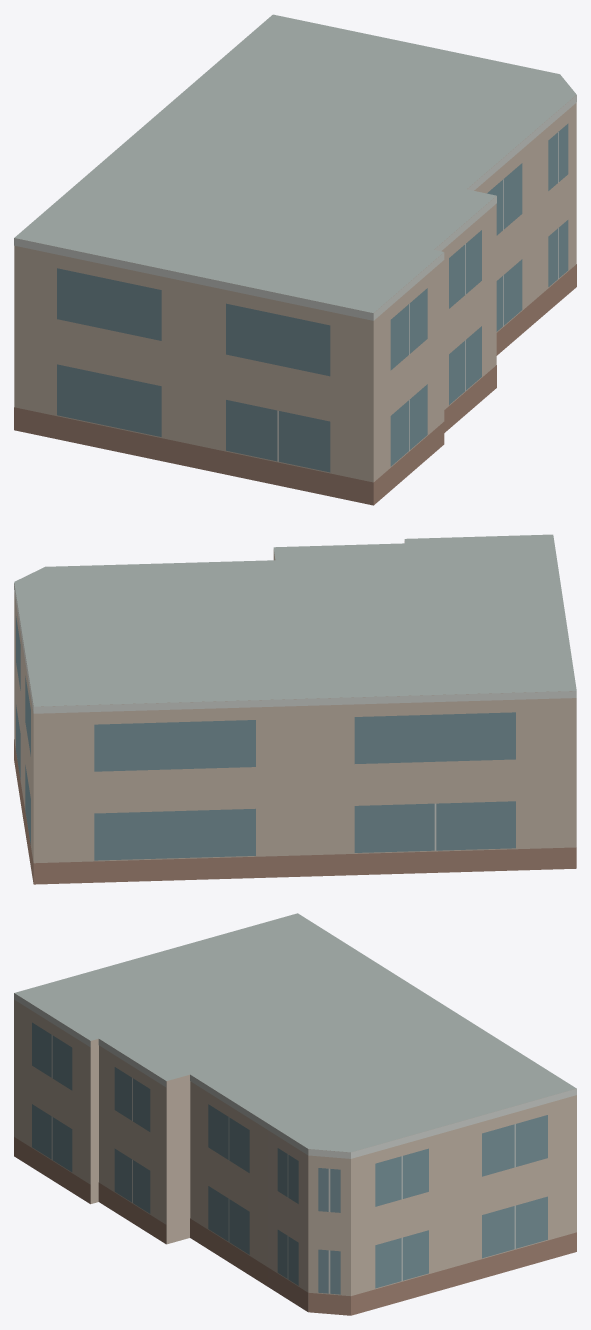
Rendered from survey-upis-32683058.glb.
3 renders of one model, top to bottom at view 1: azimuth 30°, elevation 25°; view 2: azimuth 150°, elevation 25°; view 3: azimuth 270°, elevation 25°, orthographic. The views are drawn at different scales.
Visible parts, largest first — view 1: survey-upis-32683058.tmp; view 2: survey-upis-32683058.tmp; view 3: survey-upis-32683058.tmp.
Boxes of the visible parts, left/top/right/bottom form: survey-upis-32683058.tmp: left=14, top=14, right=576, bottom=505; survey-upis-32683058.tmp: left=14, top=534, right=576, bottom=884; survey-upis-32683058.tmp: left=14, top=913, right=576, bottom=1315.
Bounding box in the file's own units: 19.18 × 6.1 × 19.06.
